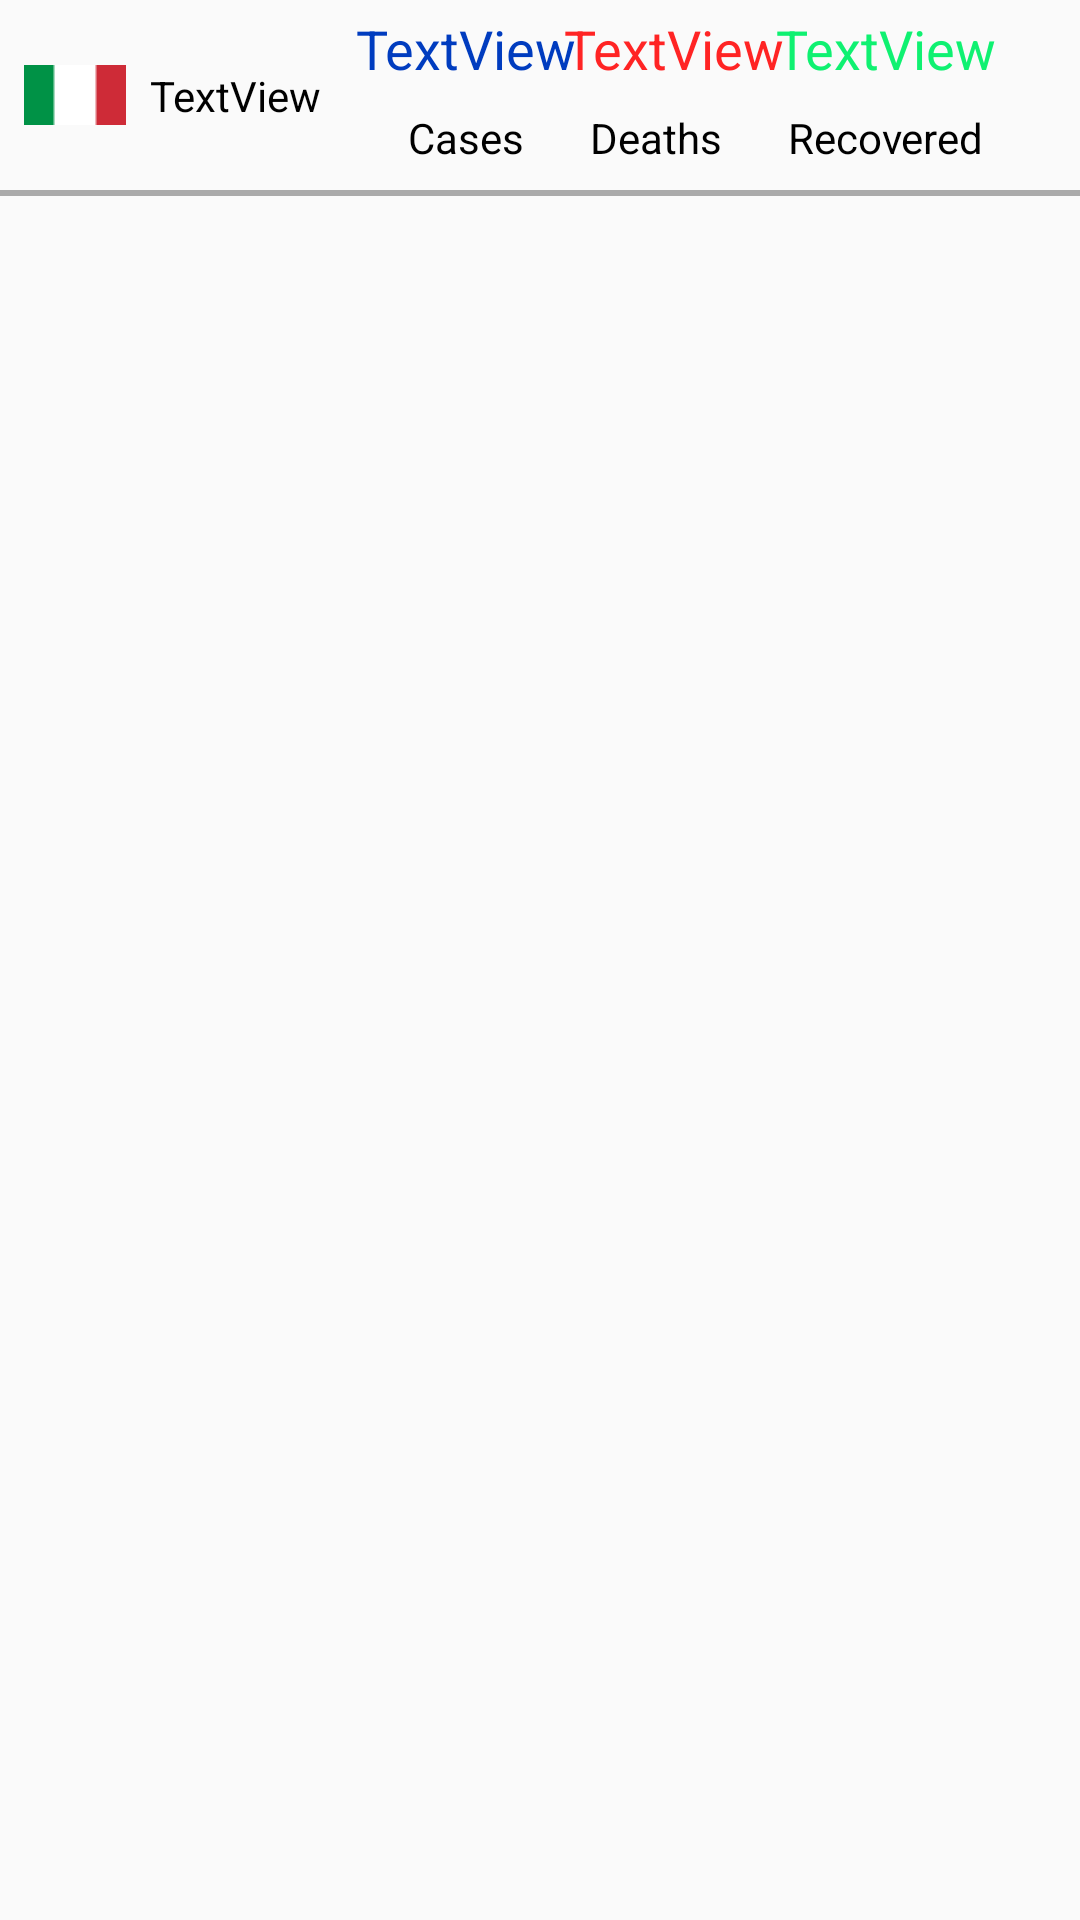

Where icons sit on this 1080x1920 app screen, as (x1, y1, x2, y2):
italy: (24, 65, 126, 125)
